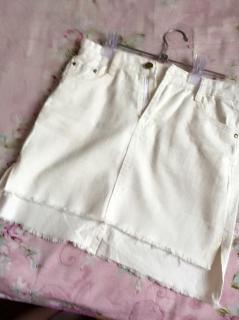skirt: (0, 38, 239, 305)
